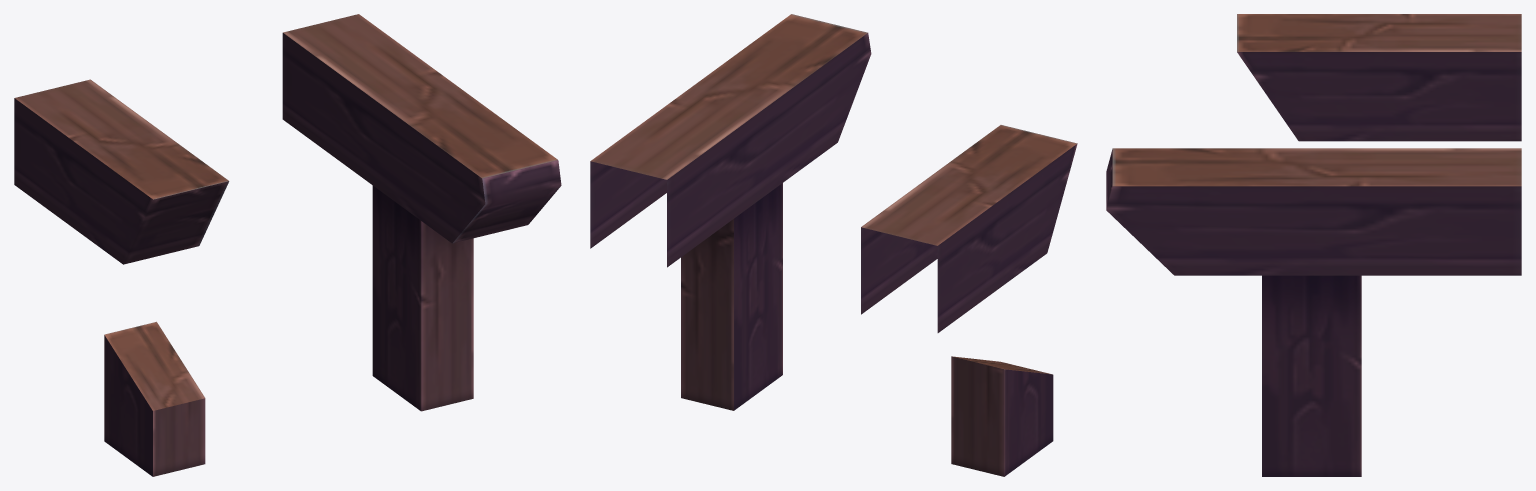
The model's file is scenes_town_roadbed02a.FBX.
The picture shows the model from 3 angles, left to right: view 1: azimuth 30°, elevation 25°; view 2: azimuth 150°, elevation 25°; view 3: azimuth 270°, elevation 25°; orthographic projection. The views are drawn at different scales.
Visible parts, largest first — view 1: scenes_town_roadbed02a; view 2: scenes_town_roadbed02a; view 3: scenes_town_roadbed02a.
Part boxes in pixels (x1=…): scenes_town_roadbed02a: x1=14, y1=14, x2=561, y2=476; scenes_town_roadbed02a: x1=590, y1=14, x2=1077, y2=476; scenes_town_roadbed02a: x1=1106, y1=14, x2=1521, y2=476.
Bounding box in the file's own units: 439 × 352 × 447.
